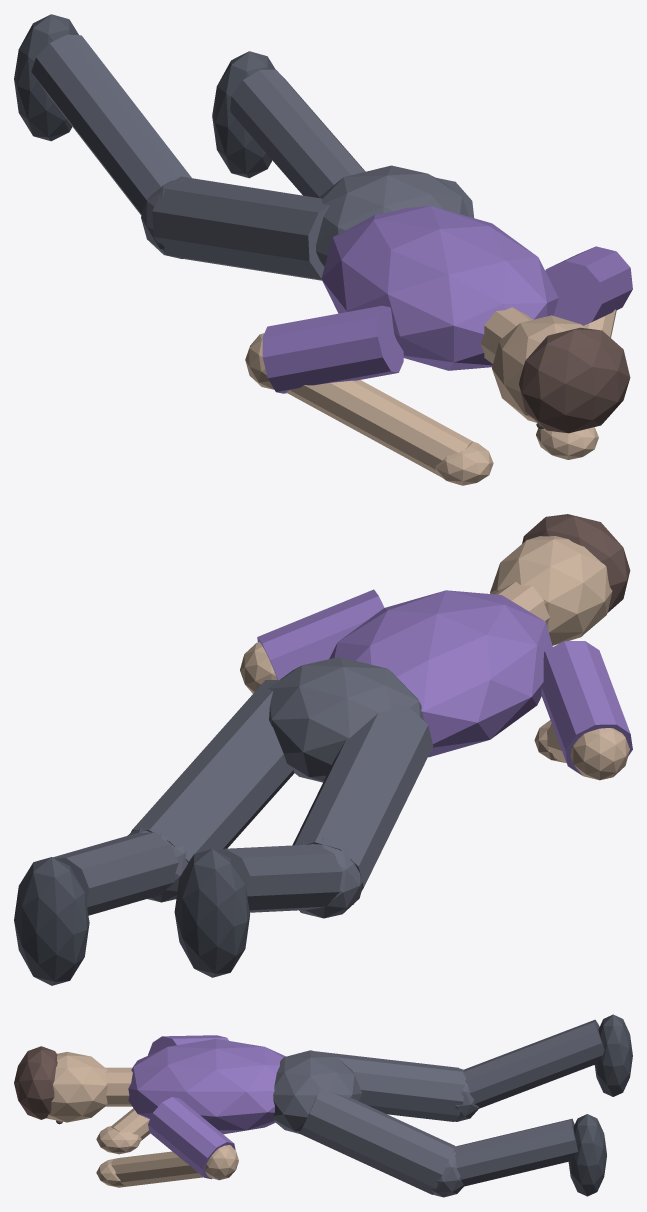
The picture shows the model from 3 angles, top to bottom: view 1: azimuth 30°, elevation 25°; view 2: azimuth 150°, elevation 25°; view 3: azimuth 270°, elevation 25°; orthographic projection. The views are drawn at different scales.
Visible parts, largest first — view 1: world; view 2: world; view 3: world.
Part boxes in pixels (x1,y1,x2,y2): world: (14,14,632,485); world: (14,514,632,985); world: (14,1014,632,1197).
Bounding box in the file's own units: 0.93 × 0.4638 × 2.04.
